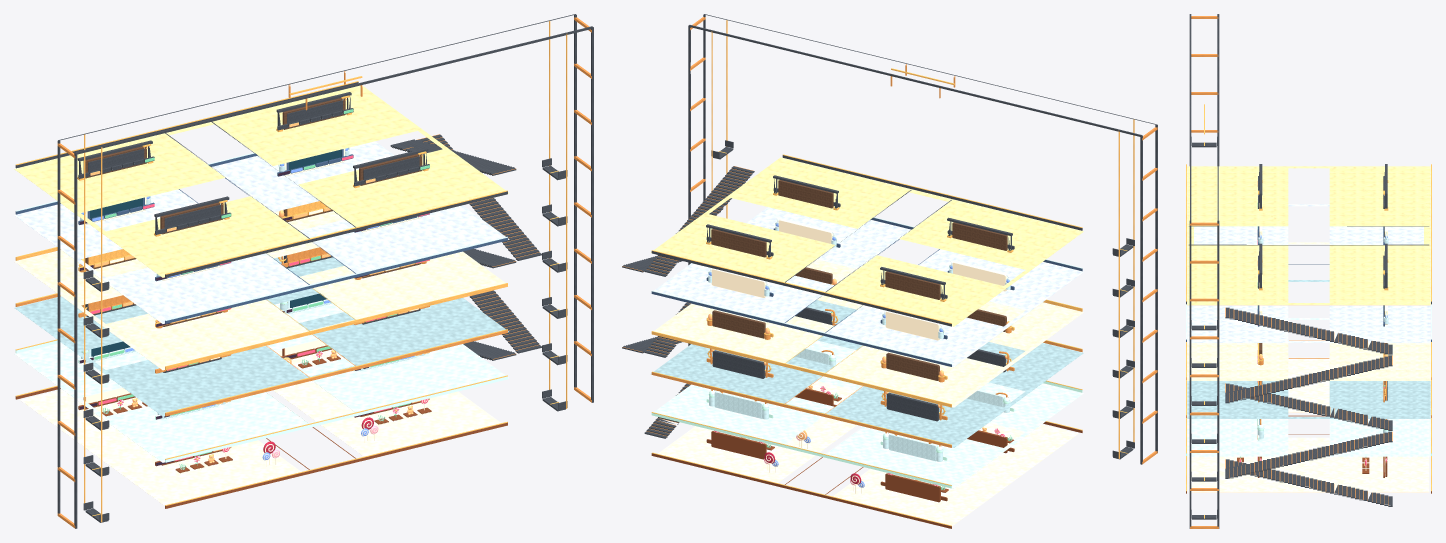
Rendered from Chocolate-River-Interiors.glb.
The picture shows the model from 3 angles, left to right: view 1: azimuth 30°, elevation 25°; view 2: azimuth 150°, elevation 25°; view 3: azimuth 270°, elevation 25°; orthographic projection. The views are drawn at different scales.
Size of the model in its own units: 93.88 by 65.27 by 47.05.
24 materials, 24 textured.
